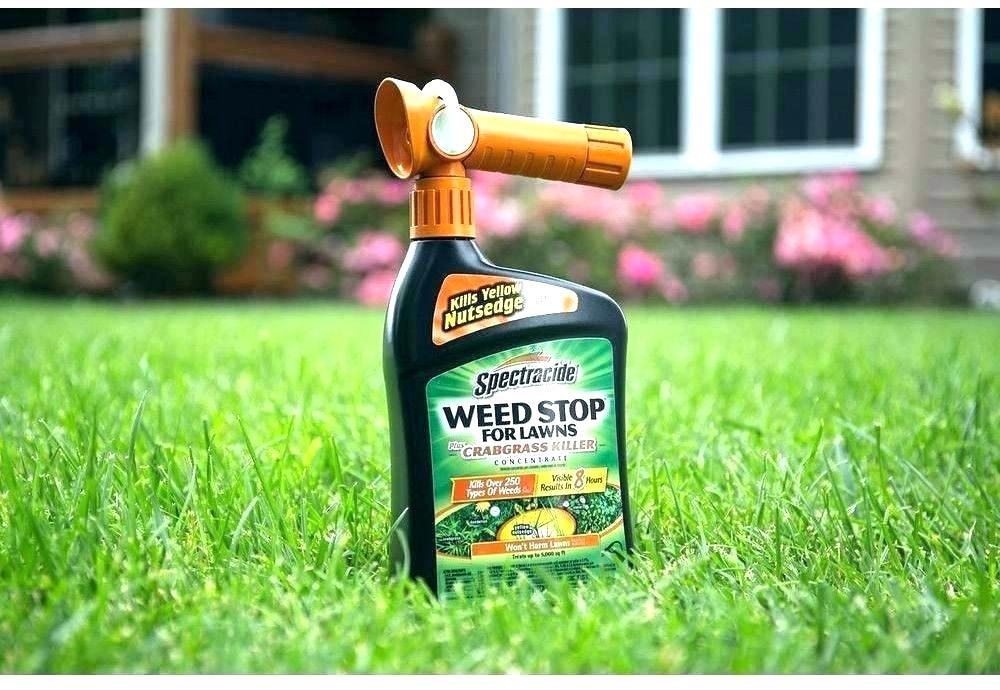crabgrass: (443, 509, 481, 552)
